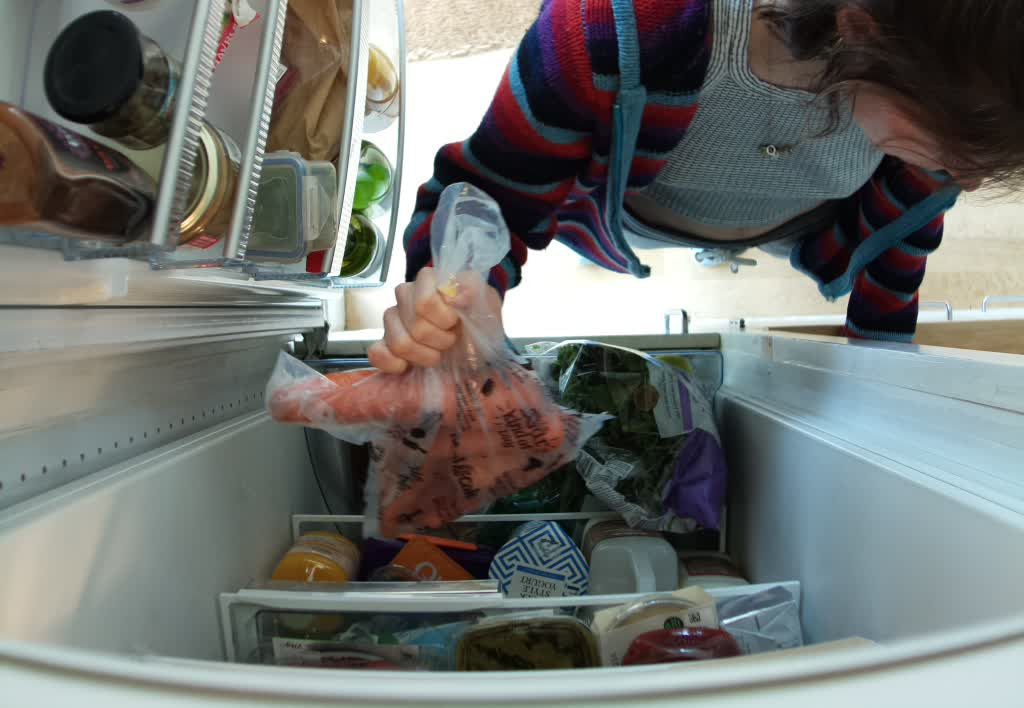carrot: (273, 359, 591, 529)
